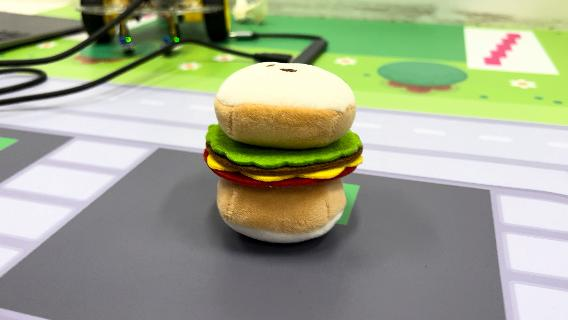sandwich: (202, 58, 366, 244)
